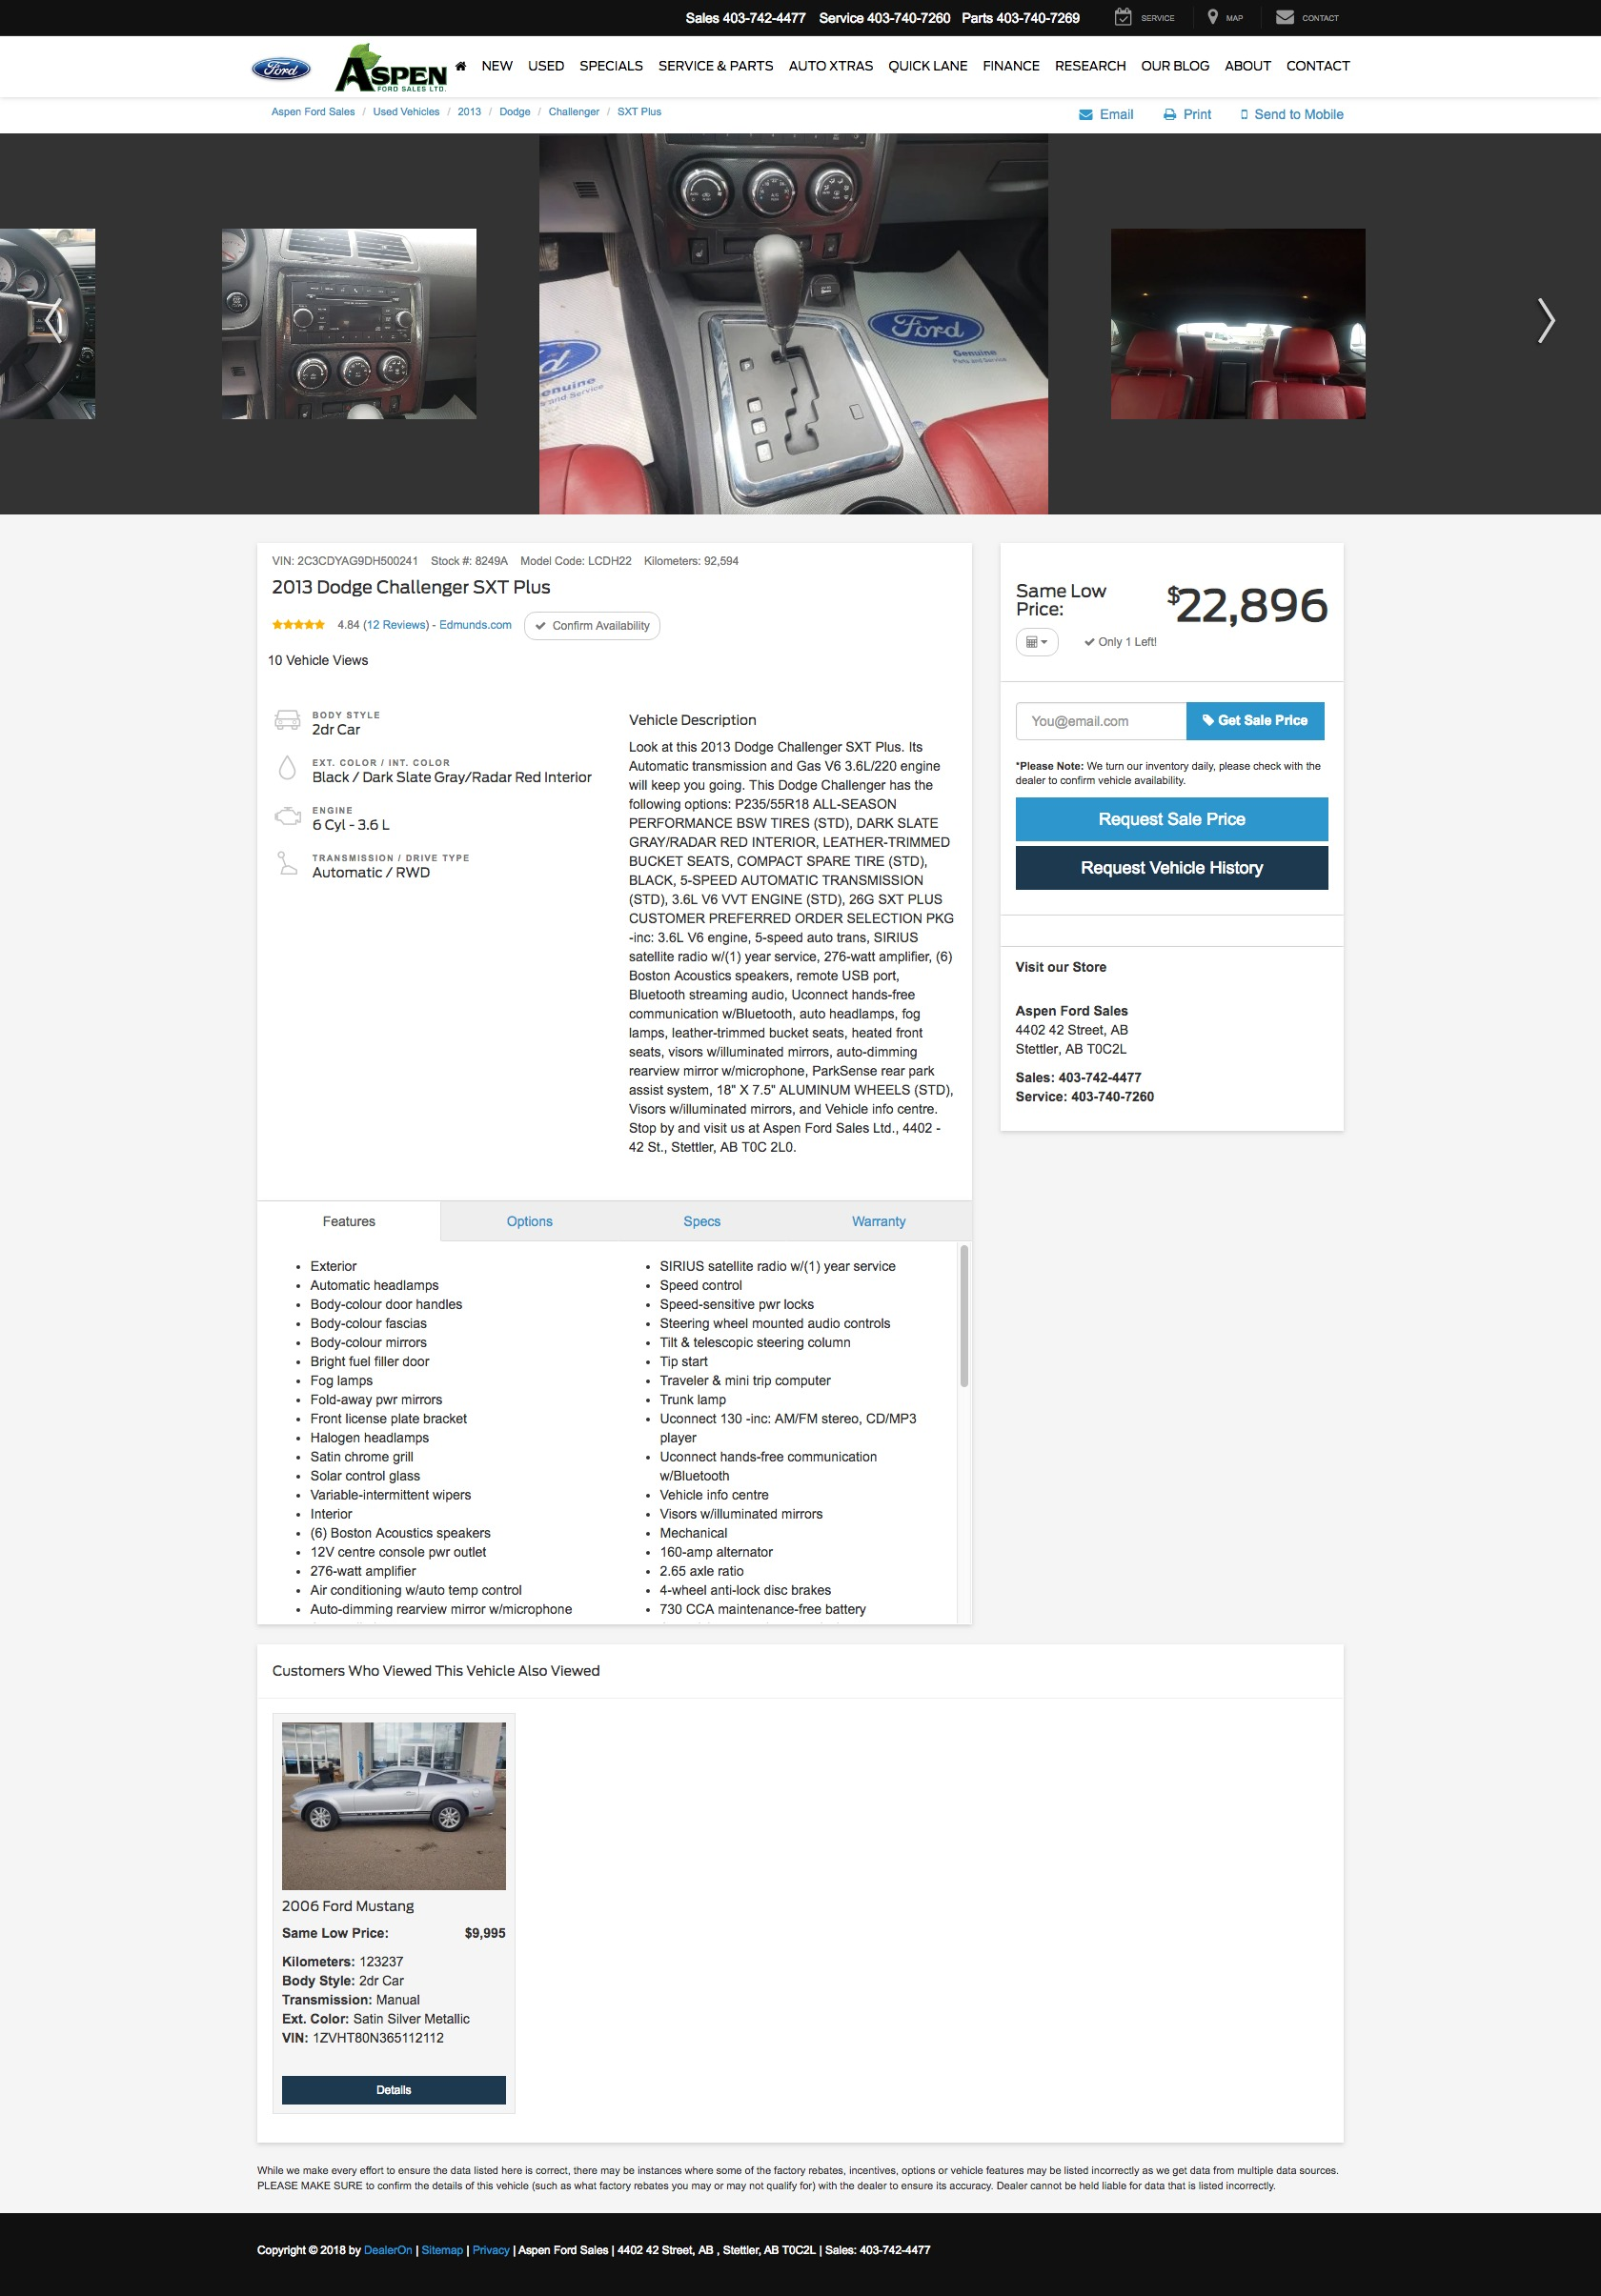car: (1538, 302, 1556, 344)
